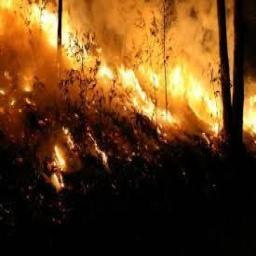Medium fire: (5, 0, 256, 197)
